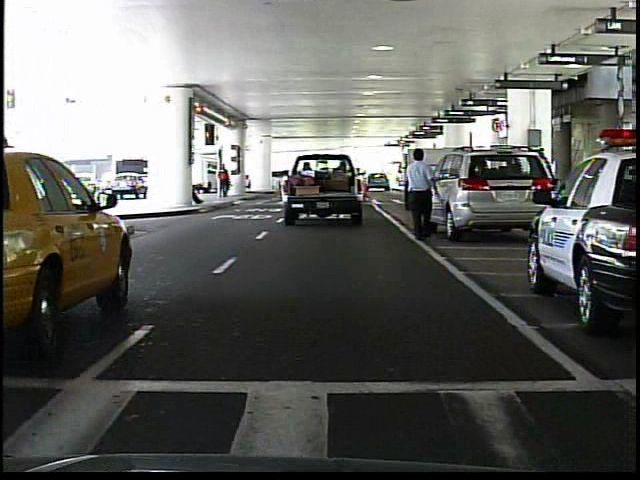person: (400, 145, 444, 240), (217, 162, 236, 200)
